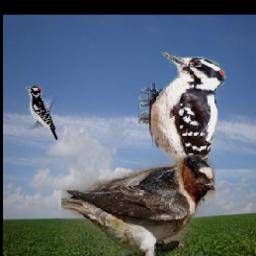Swallow: (61, 155, 215, 256)
Woodpecker: (139, 52, 227, 207), (26, 86, 57, 140)
